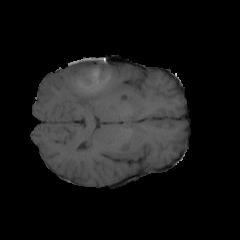glioma: (64, 62, 122, 102)
